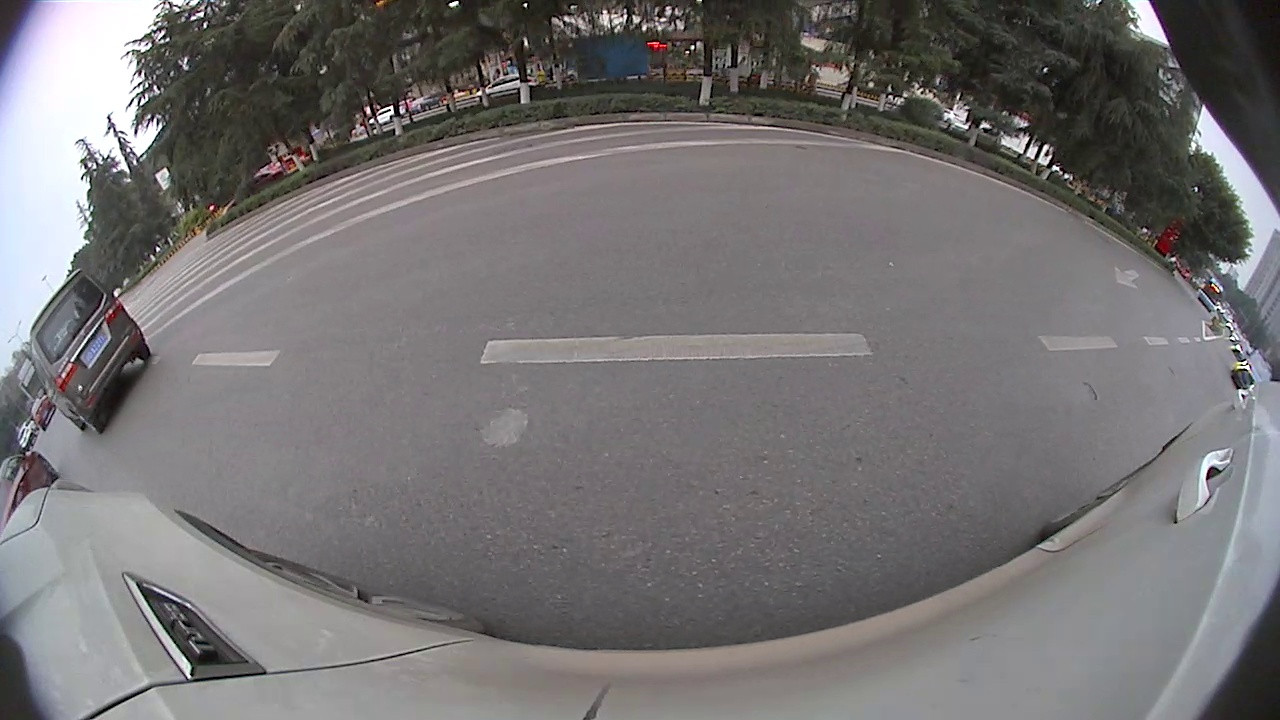bus: (1192, 273, 1228, 315)
car: (23, 263, 153, 436), (1, 445, 61, 531), (1227, 343, 1272, 394)
